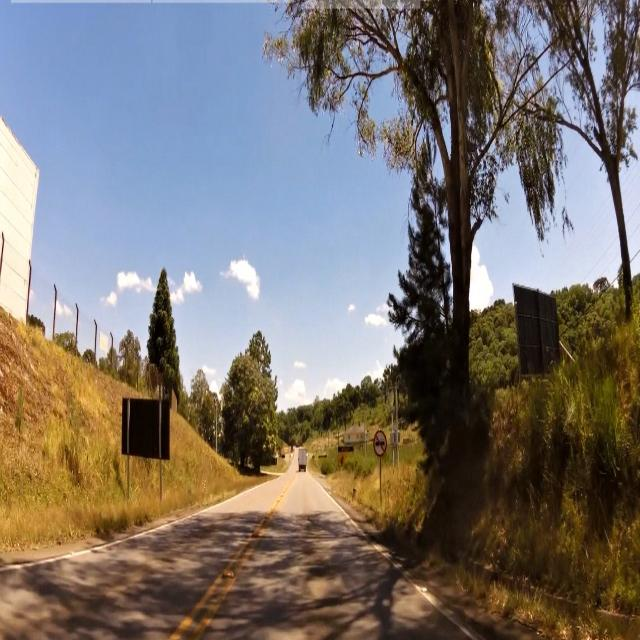R-7: (372, 428, 386, 456)
